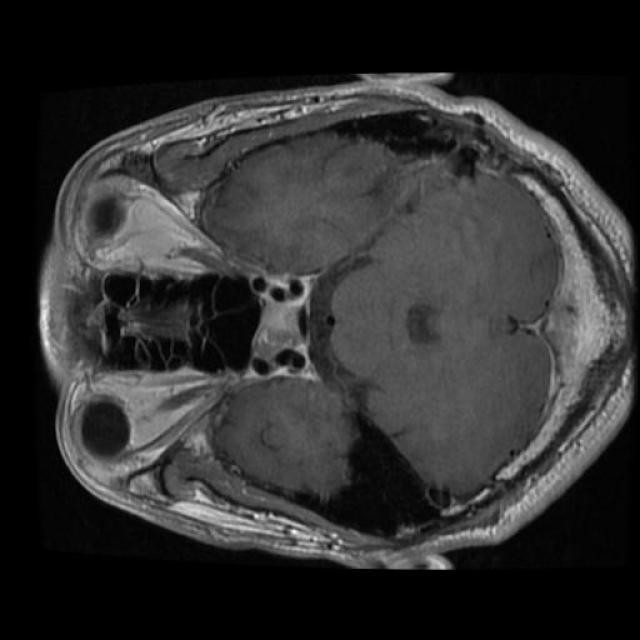Pituitary: (243, 273, 316, 381)
